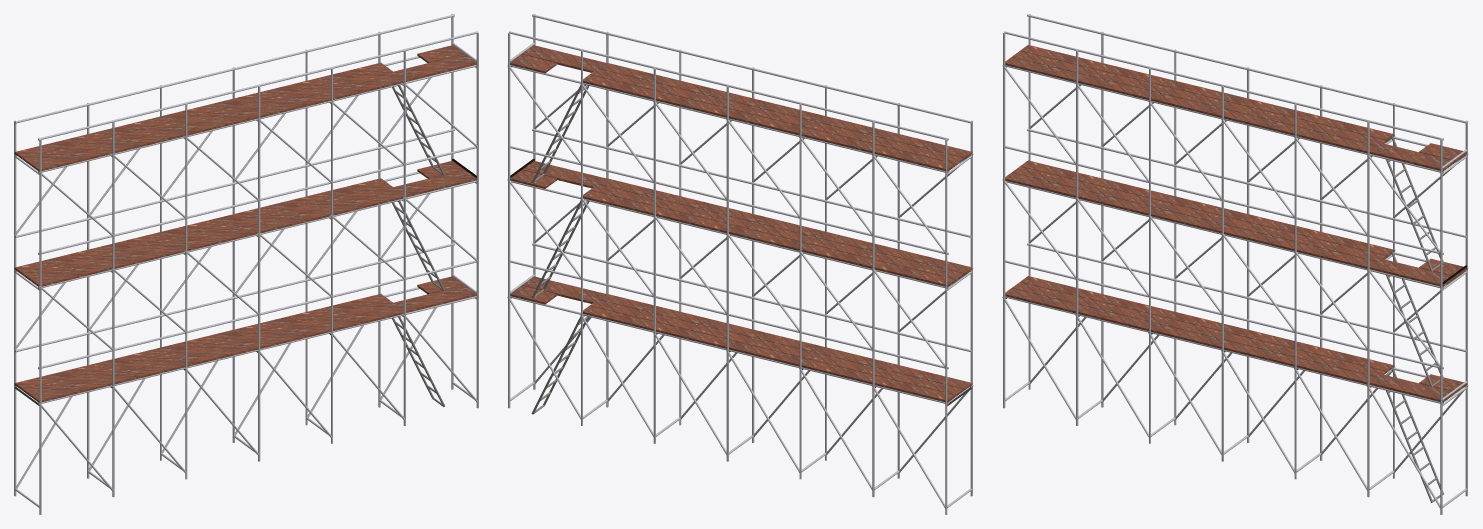
File: Metal Scaffolding.fbx
3 renders of one model, left to right at view 1: azimuth 30°, elevation 25°; view 2: azimuth 150°, elevation 25°; view 3: azimuth 330°, elevation 25°, orthographic.
Visible parts, largest first — view 1: Metal Scaffolding; view 2: Metal Scaffolding; view 3: Metal Scaffolding.
Boxes of the visible parts, x1,y1,x2,y2 form: Metal Scaffolding: (14,14,478,514); Metal Scaffolding: (507,14,973,514); Metal Scaffolding: (1002,14,1468,514).
Size of the model in its own units: 786 by 81.8 by 645.
5 materials, 3 textured.
